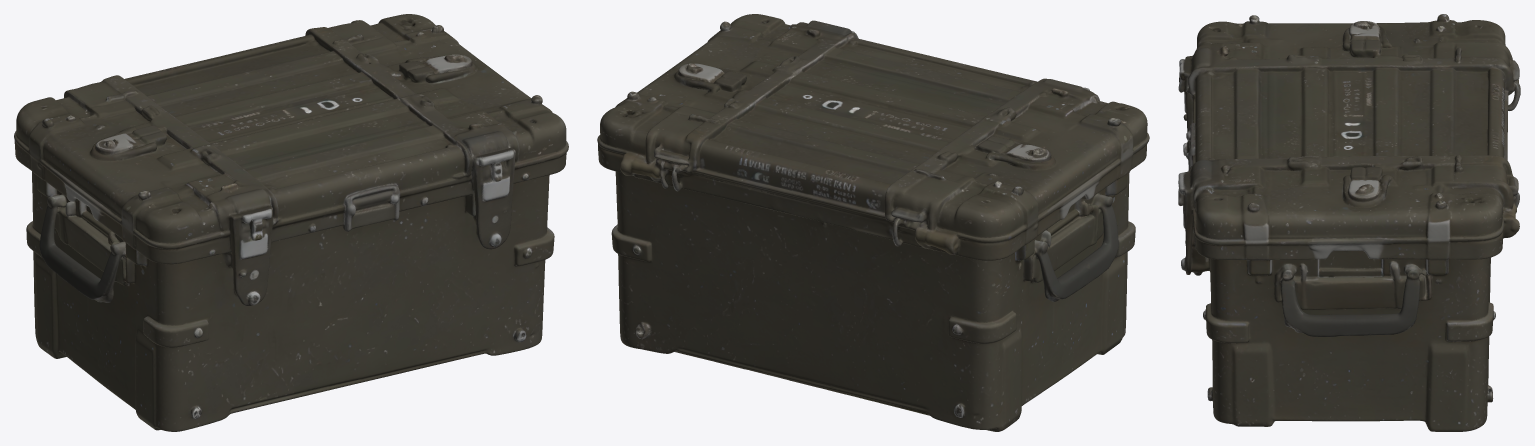
The model's file is prop_meridian_crate.glb.
The picture shows the model from 3 angles, left to right: view 1: azimuth 30°, elevation 25°; view 2: azimuth 150°, elevation 25°; view 3: azimuth 270°, elevation 25°; orthographic projection. The views are drawn at different scales.
Parts seen in each view (by area): view 1: tripo_node_18f05e10-e405-4cf5-9c76-78acff66053a; view 2: tripo_node_18f05e10-e405-4cf5-9c76-78acff66053a; view 3: tripo_node_18f05e10-e405-4cf5-9c76-78acff66053a.
Part boxes in pixels (x1,y1,x2,y2): tripo_node_18f05e10-e405-4cf5-9c76-78acff66053a: (14,14,568,431); tripo_node_18f05e10-e405-4cf5-9c76-78acff66053a: (597,14,1149,431); tripo_node_18f05e10-e405-4cf5-9c76-78acff66053a: (1178,14,1520,431).
Size of the model in its own units: 1 by 0.5349 by 0.6915.
1 material, 1 textured.
